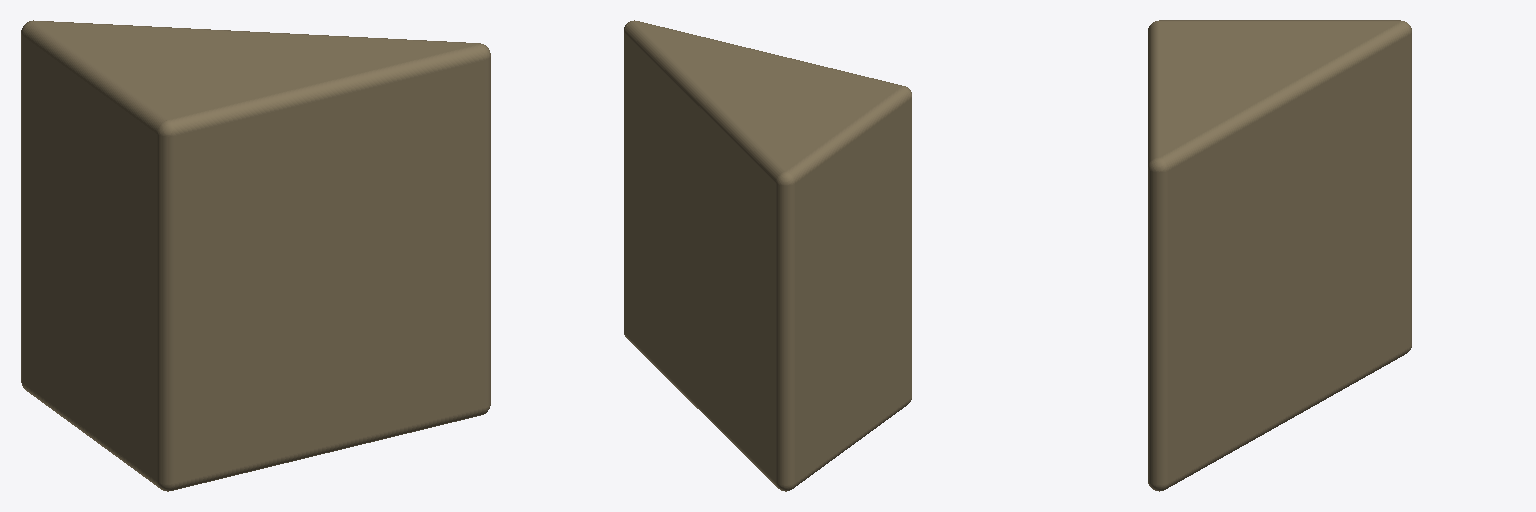
URDF robot description (wedge_short_stout):
<?xml version="1.0"?>
<robot name="wedge_short_stout">
  <link name="base_link">
    <visual>
      <origin xyz="0 0 0" rpy="0 0 0" />
      <geometry>
        <mesh filename="wedge_short_stout.obj"/>      
      </geometry>
      <material name="tan">
        <color rgba="0.55 0.5 0.4 1"/>
      </material>
    </visual>
    <collision>
      <origin xyz="0 0 0" rpy="0 0 0" />
      <geometry>
        <mesh filename="wedge_short_stout.obj"/>
      </geometry>
    </collision>
  </link>
</robot>

--- Render facts (derived) ---
Views: 3 orthographic renders of the robot side by side, from view 1: azimuth 30°, elevation 25°; view 2: azimuth 150°, elevation 25°; view 3: azimuth 270°, elevation 25°.
Model wedge_short_stout with 1 links and 0 joints (none), rooted at base_link, posed every joint at zero.
Visible links, largest first — view 1: base_link; view 2: base_link; view 3: base_link.
Boxes of the visible links, x1=… form: base_link: x1=21, y1=20, x2=490, y2=491; base_link: x1=624, y1=20, x2=911, y2=491; base_link: x1=1148, y1=20, x2=1411, y2=491.
Bounding box of the posed robot: 23.83 × 18.26 × 25.4 m (x, y, z).
1 mesh visuals loaded from 1 distinct referenced files (1 OBJ).
